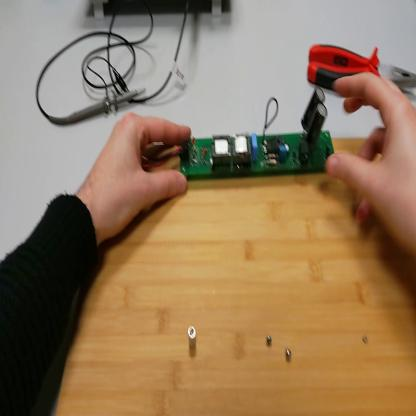hand: (322, 70, 416, 252), (88, 112, 191, 241)
high voltage board: (144, 92, 337, 182)
oscilloscope: (93, 2, 228, 19)
oscilloscope probe tip: (61, 88, 148, 124)
pliers: (310, 44, 416, 91)
working area: (56, 138, 416, 415)
